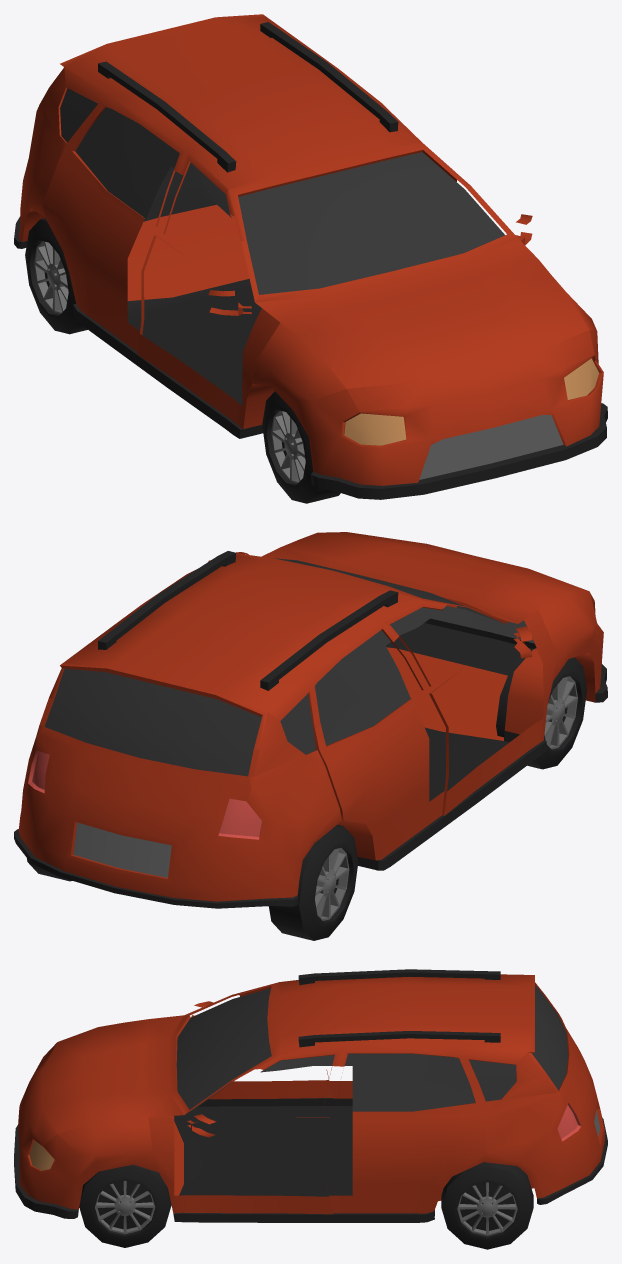
Rendered from suv-body.glb.
The picture shows the model from 3 angles, top to bottom: view 1: azimuth 30°, elevation 25°; view 2: azimuth 150°, elevation 25°; view 3: azimuth 270°, elevation 25°; orthographic projection. The views are drawn at different scales.
Bounding box in the file's own units: 2.07 × 1.53 × 4.21.
1 material, 1 textured.
